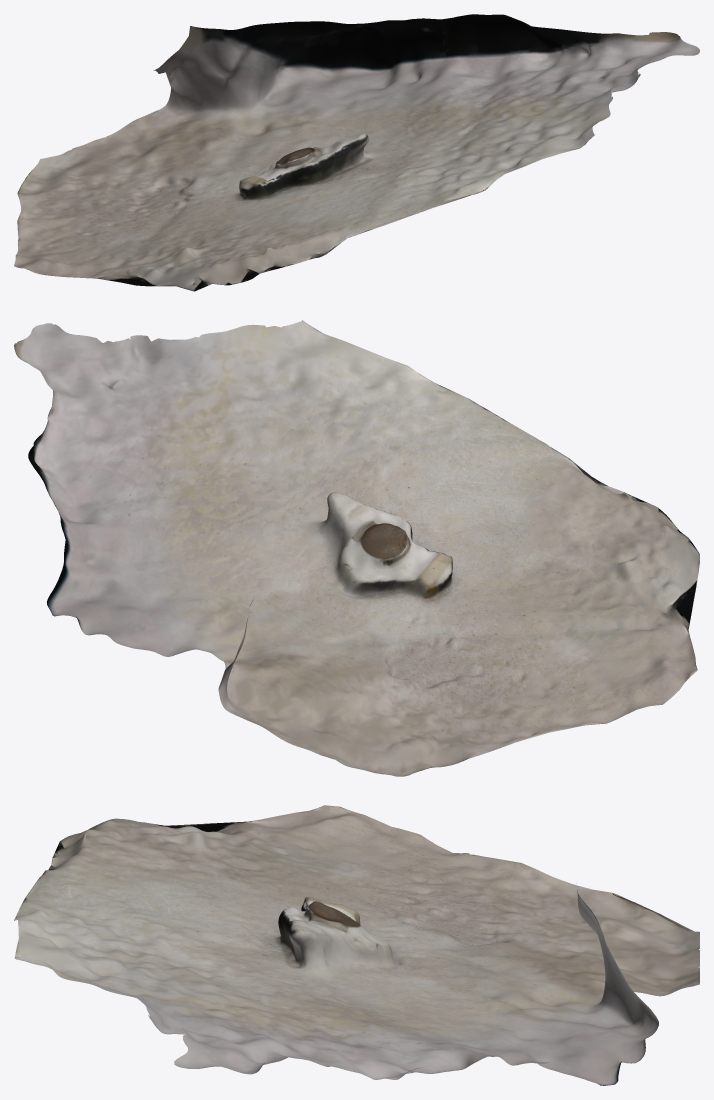
The picture shows the model from 3 angles, top to bottom: view 1: azimuth 30°, elevation 25°; view 2: azimuth 150°, elevation 25°; view 3: azimuth 270°, elevation 25°; orthographic projection. The views are drawn at different scales.
Size of the model in its own units: 1.78 by 0.3807 by 1.24.
Materials: 1 (1 with a texture image).
